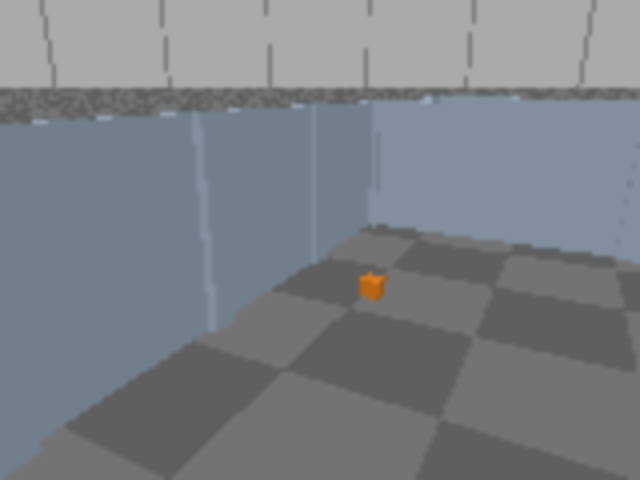puck: (359, 273, 386, 300)
